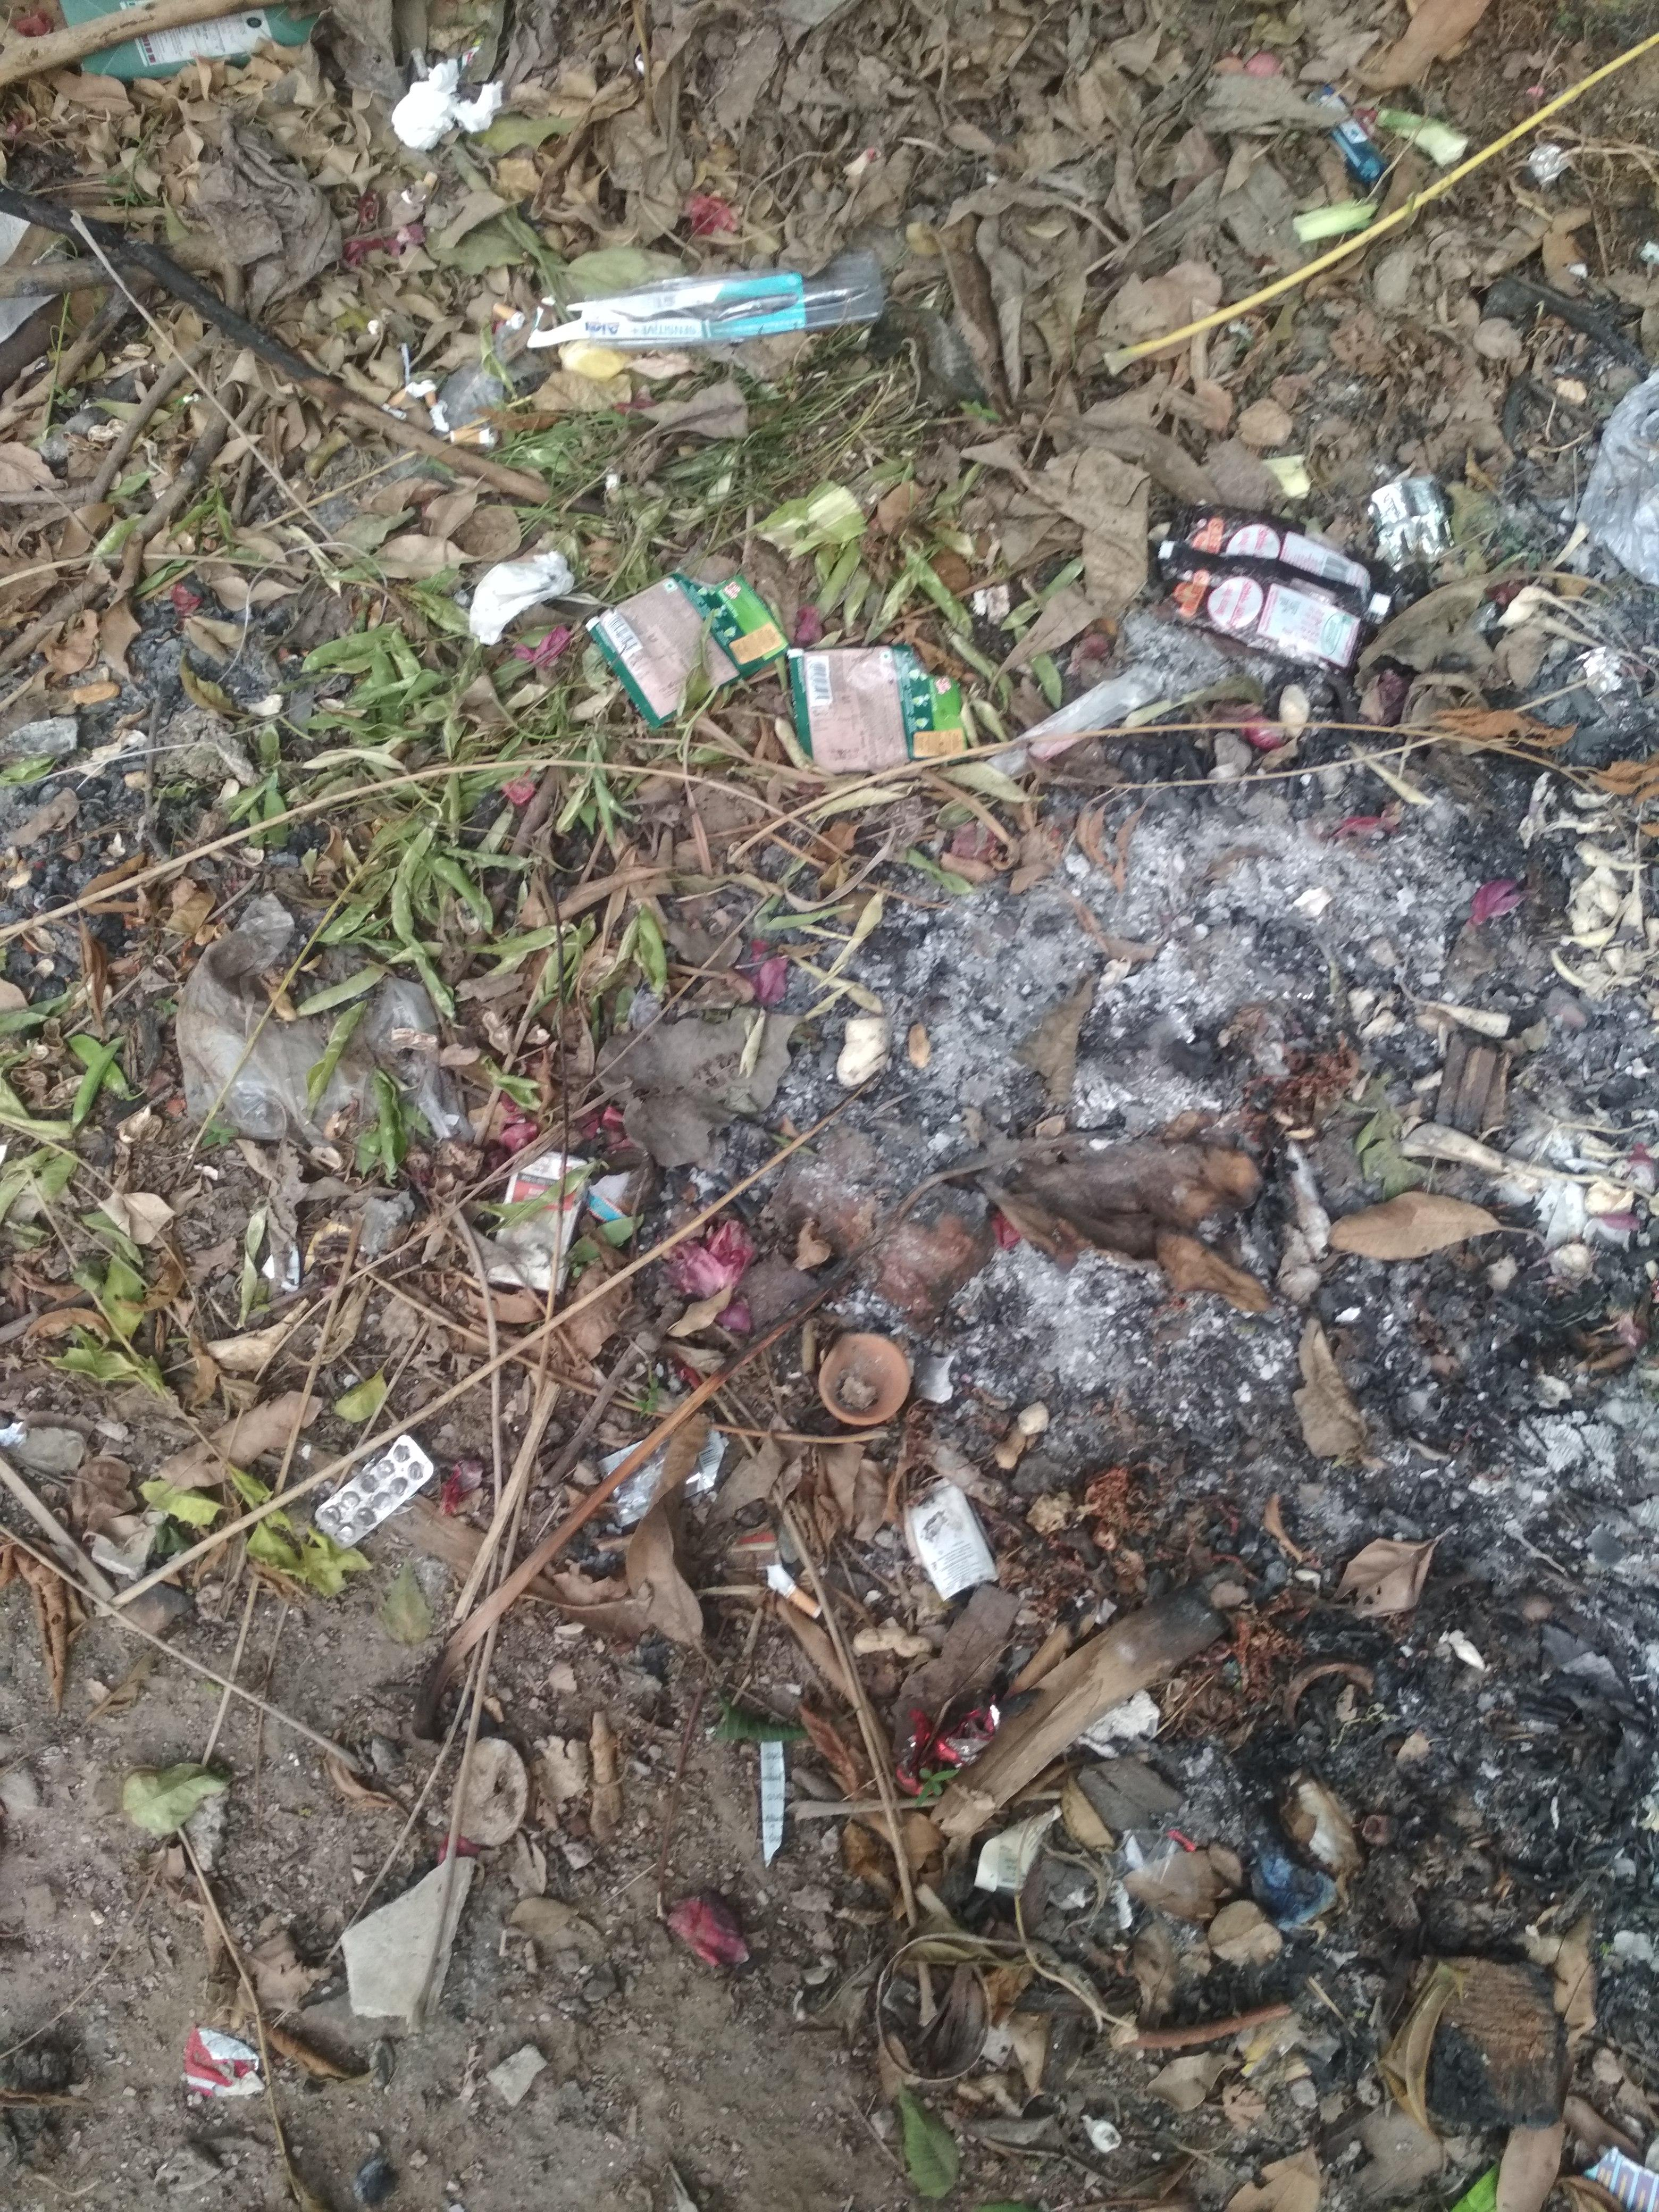trash: (157, 239, 1636, 2170)
